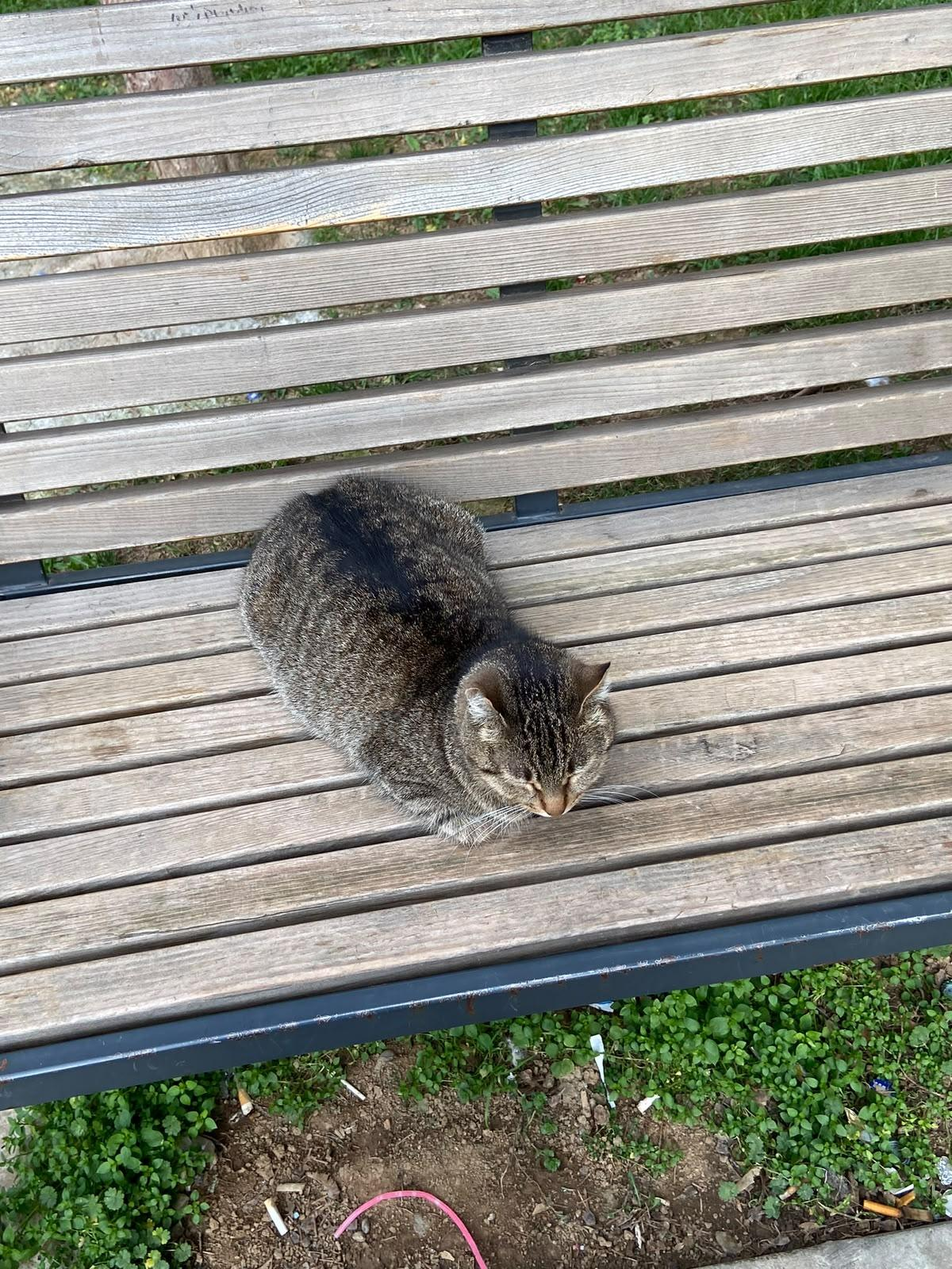macka: (239, 474, 618, 845)
